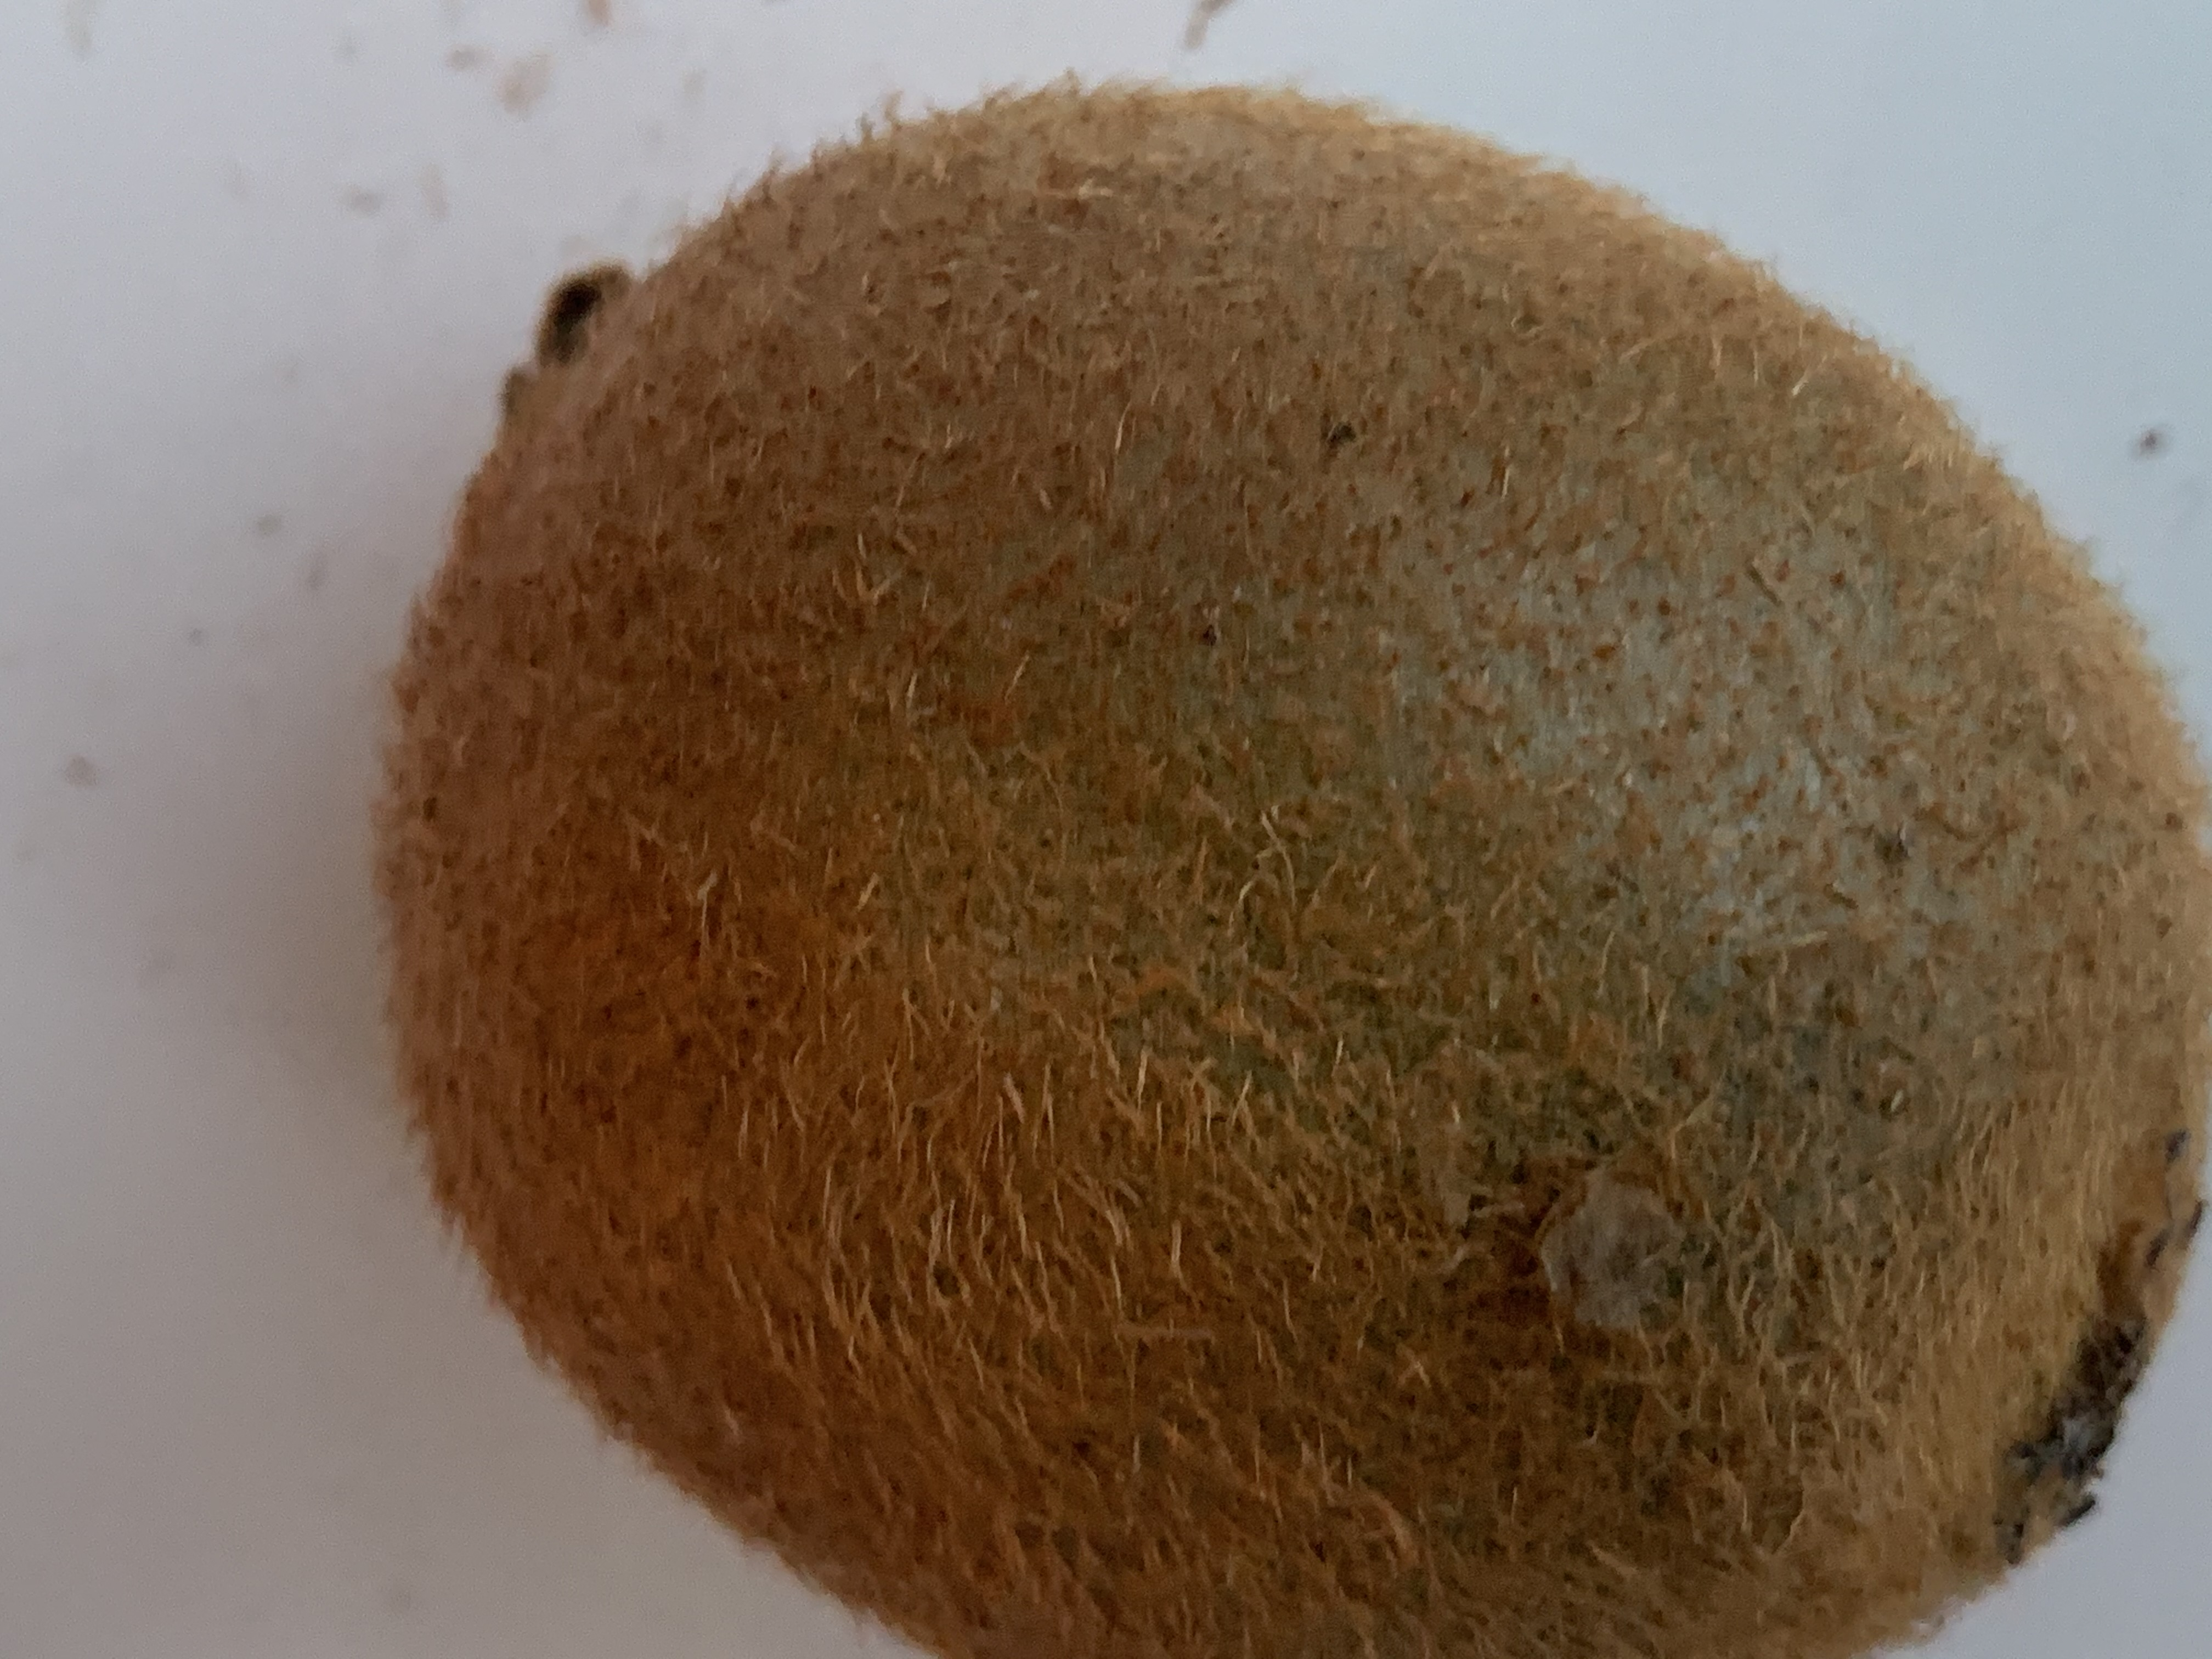kiwi: (368, 91, 2212, 1642)
